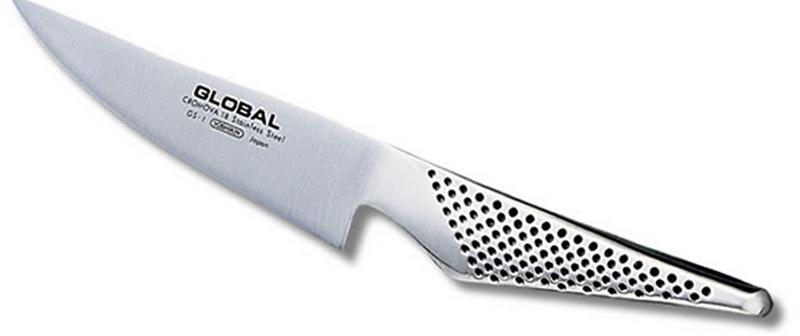knife: (11, 1, 773, 316)
